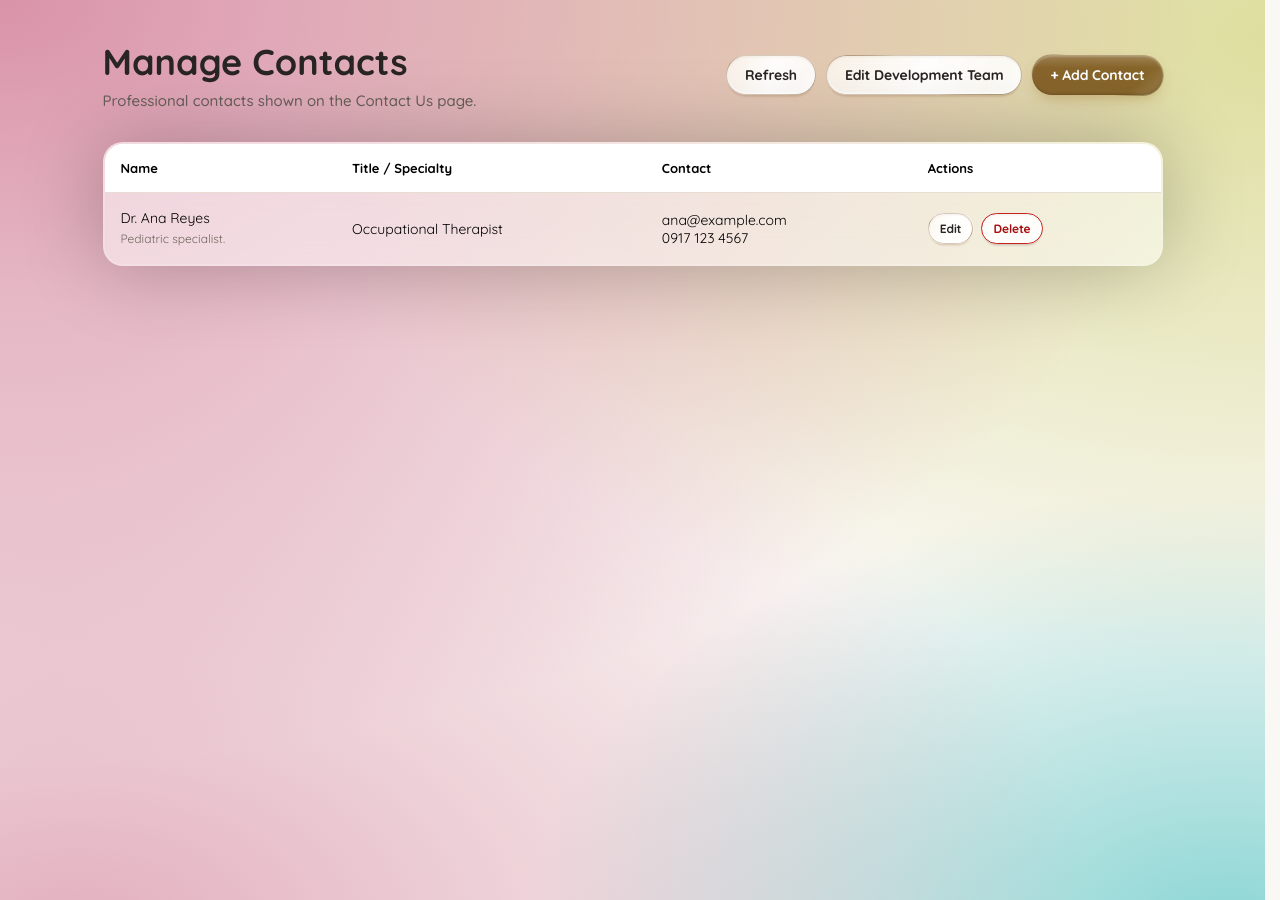
Test: Manage Contacts: Edit Development Team › fetches the current saved details each time it opens (never a stale copy)
Click the button "Edit Development Team" at (924,75), box [826,55,1022,95]
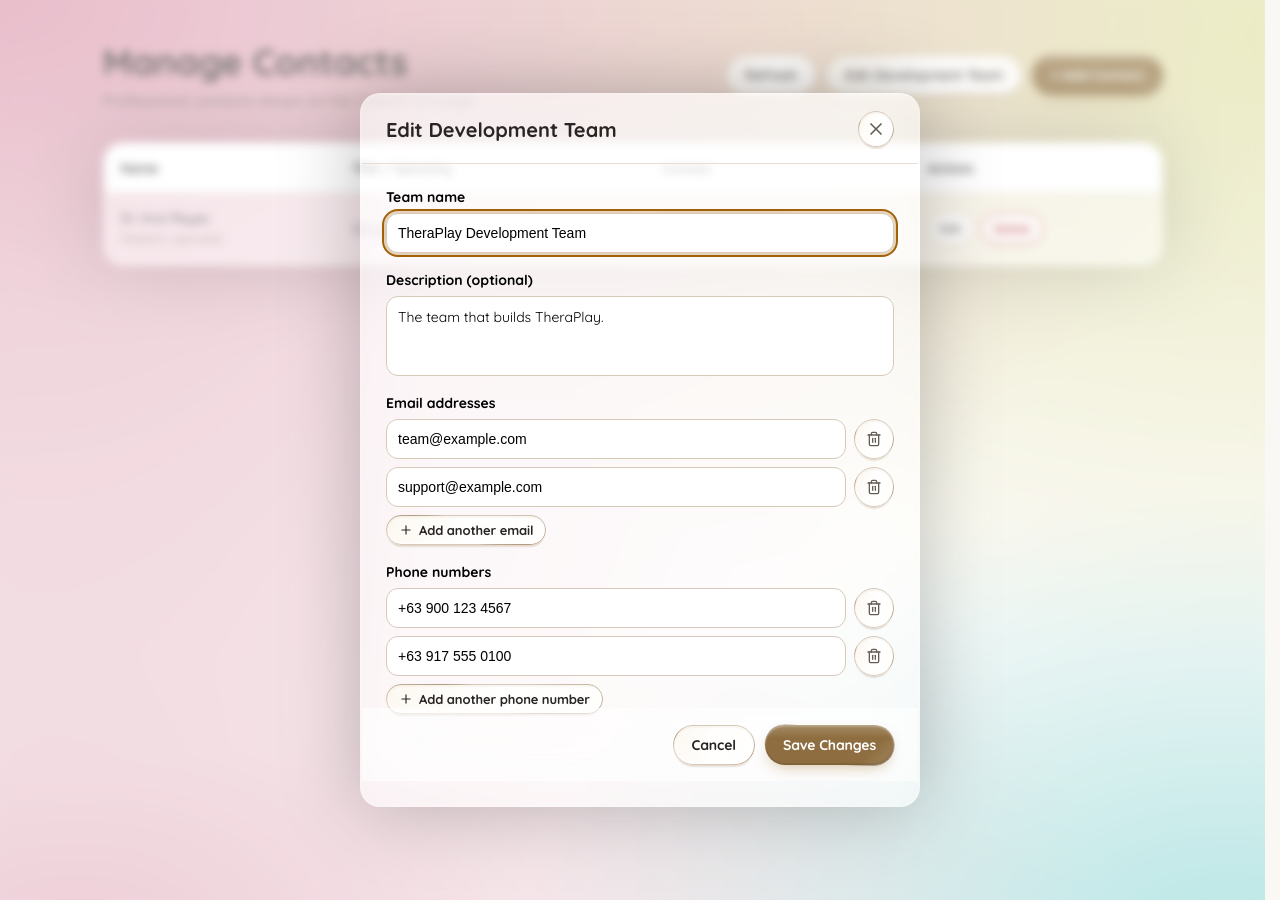
Press Escape
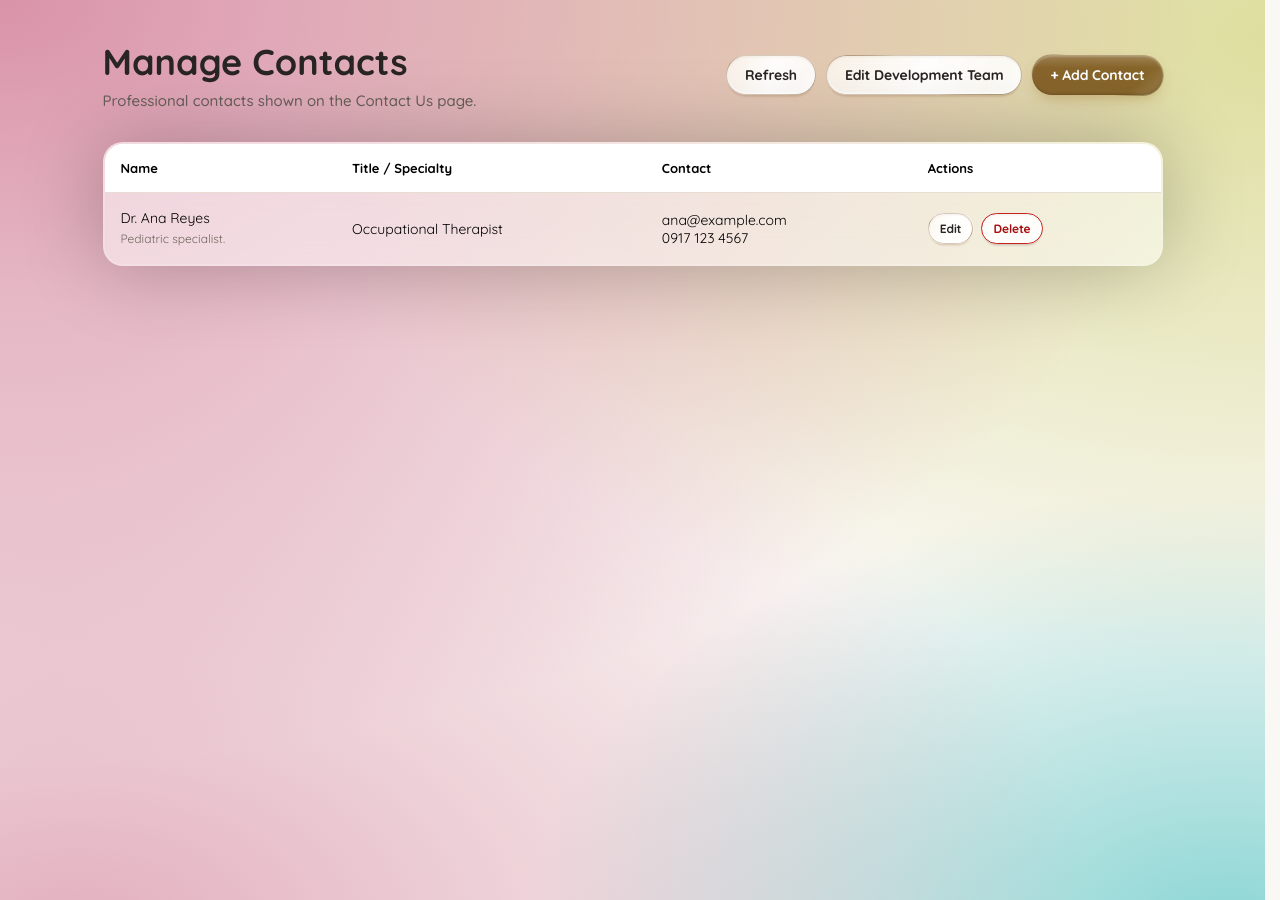
Check: the dialog is gone
Click the button "Edit Development Team" at (924,75), box [826,55,1022,95]
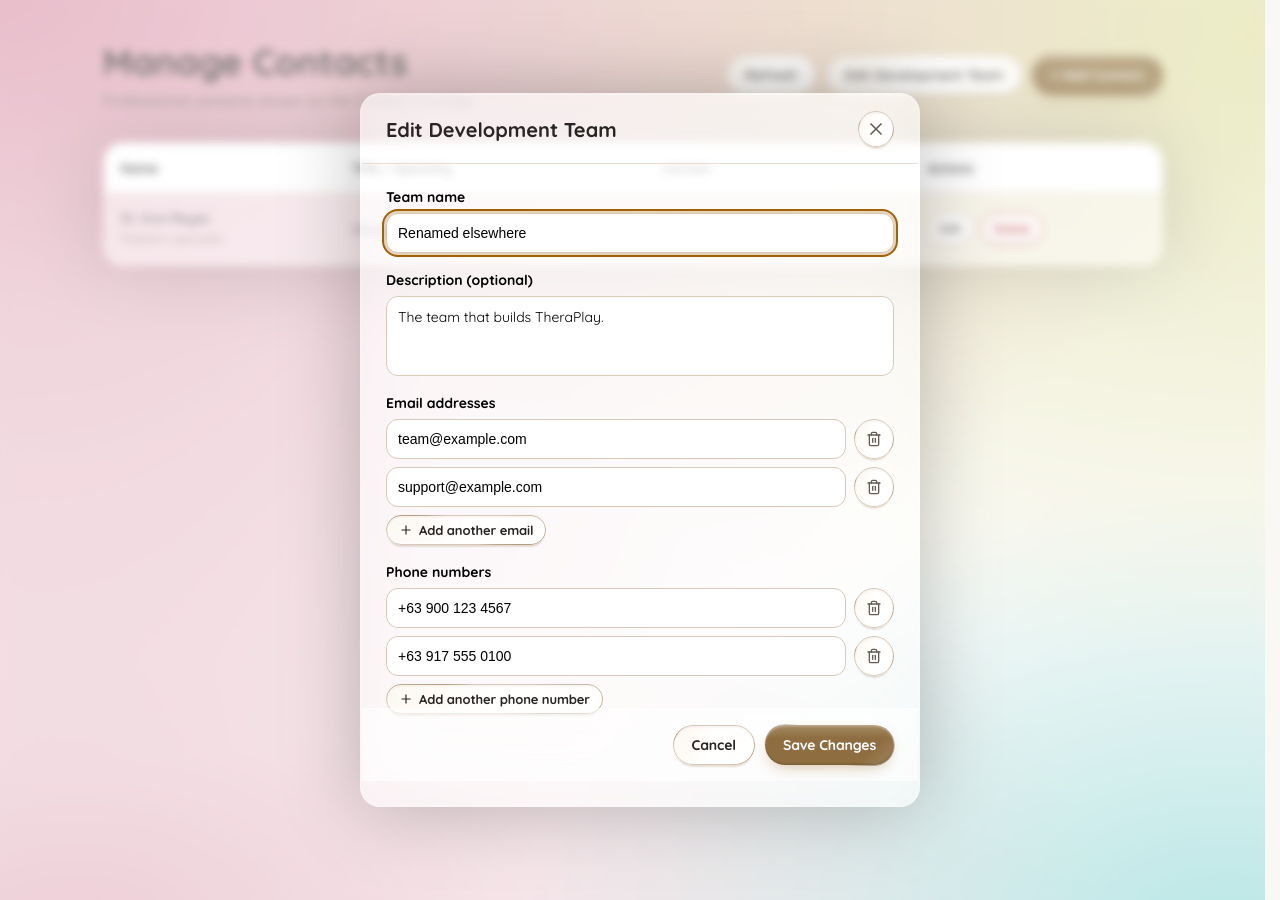
Check: the field labelled "Team name" holds "Renamed elsewhere", box [386,213,894,253]
